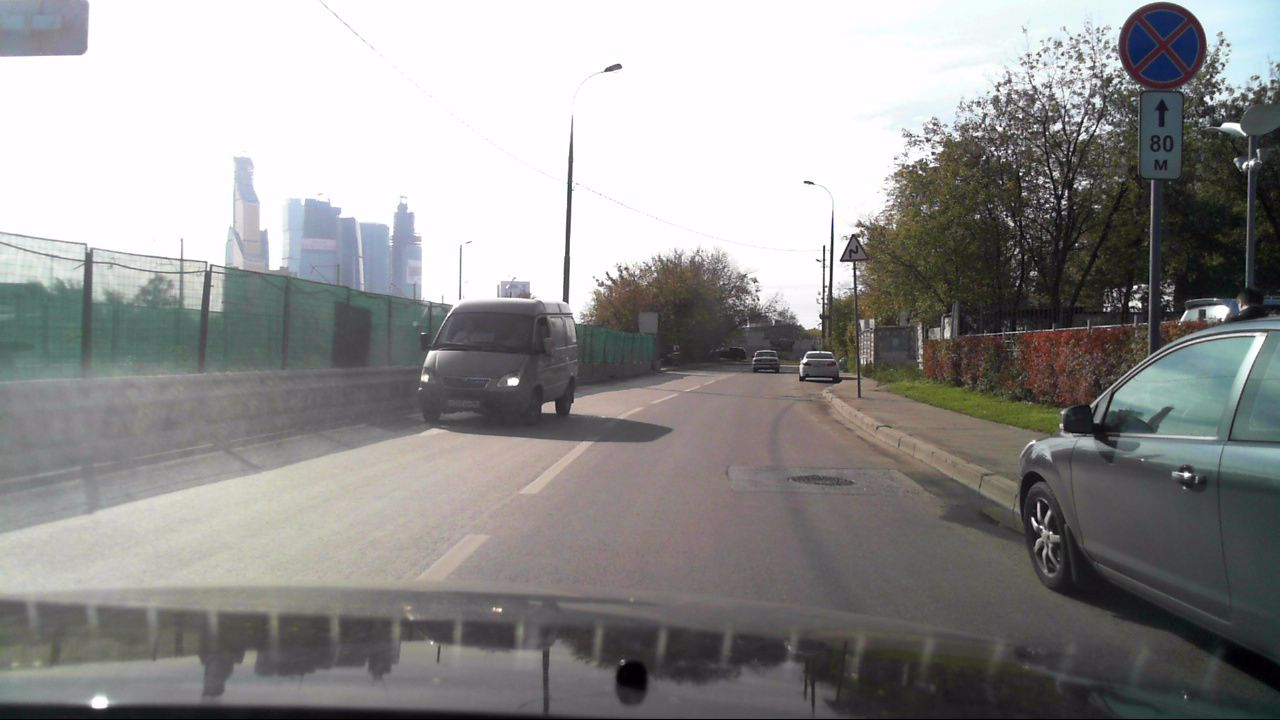No Parking: (1117, 0, 1208, 86)
